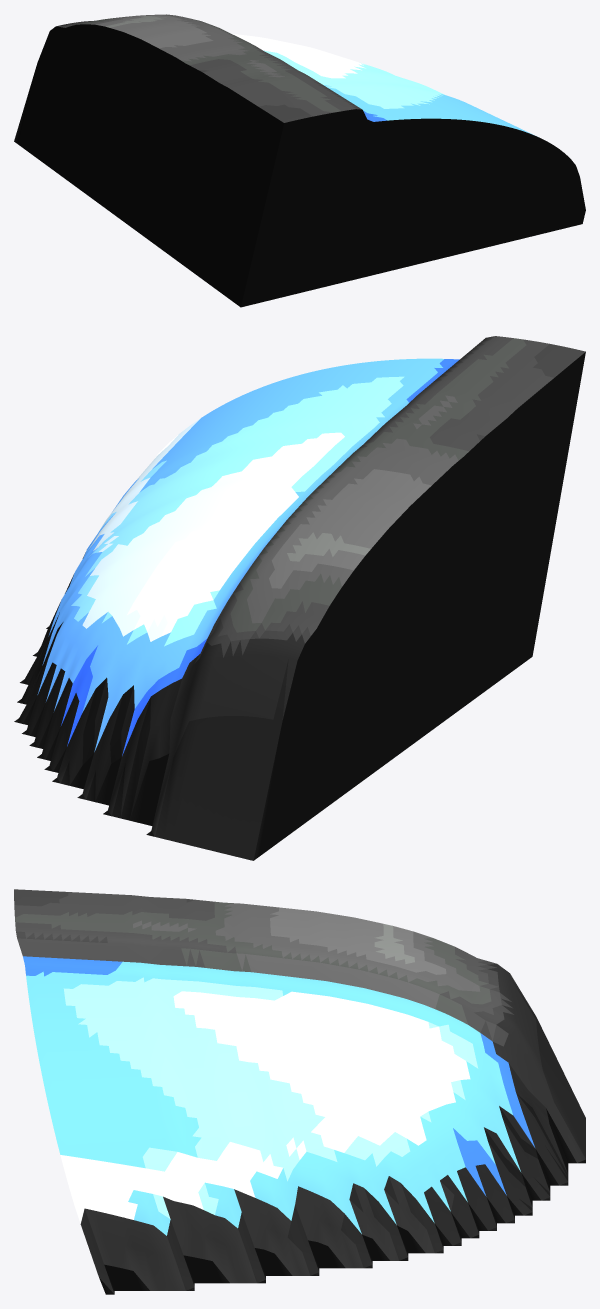
File: time_capsule_252.glb
3 views of the same model, one above another, from view 1: azimuth 30°, elevation 25°; view 2: azimuth 150°, elevation 25°; view 3: azimuth 270°, elevation 25° (orthographic). The views are drawn at different scales.
Parts seen in each view (by area): view 1: time_capsule_252; view 2: time_capsule_252; view 3: time_capsule_252.
Part boxes in pixels (x1,y1,x2,y2): time_capsule_252: (14,14,585,307); time_capsule_252: (14,336,585,860); time_capsule_252: (14,889,585,1294).
Bounding box in the file's own units: 23.5 × 14.2 × 32.17.
